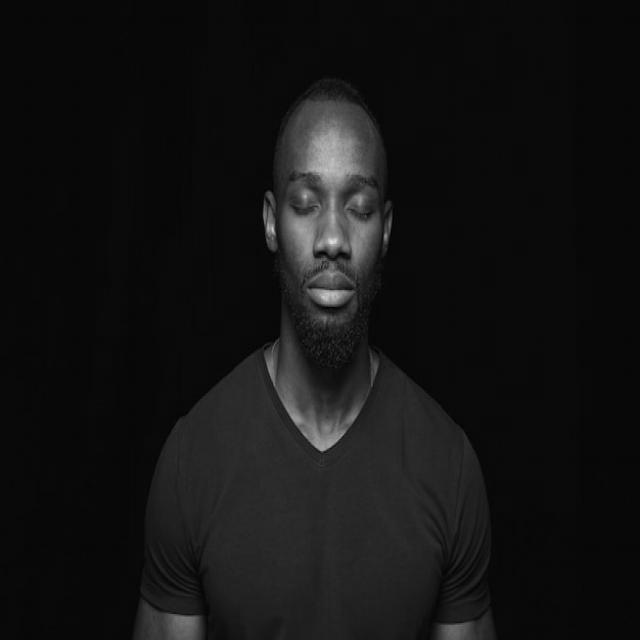real: (286, 133, 374, 315), (272, 150, 380, 220)
